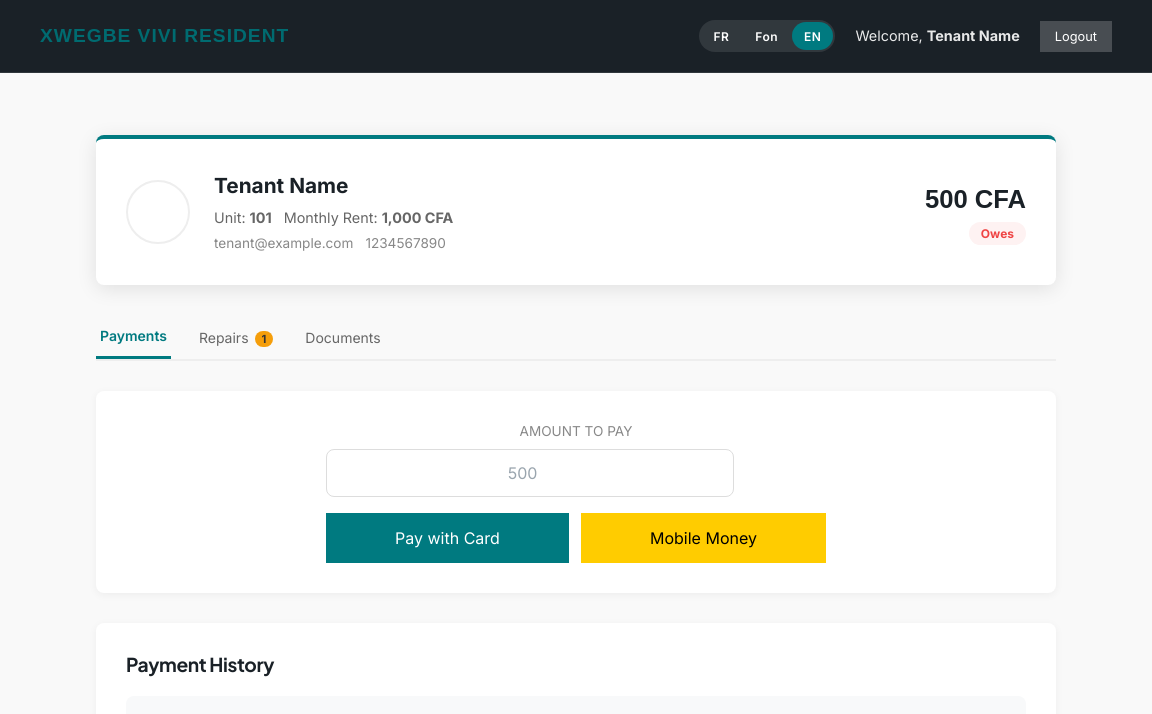
TenantPortal › renders repair list
Click the button "Repairs1": coordinates (236, 337) 195,315 -> 277,359
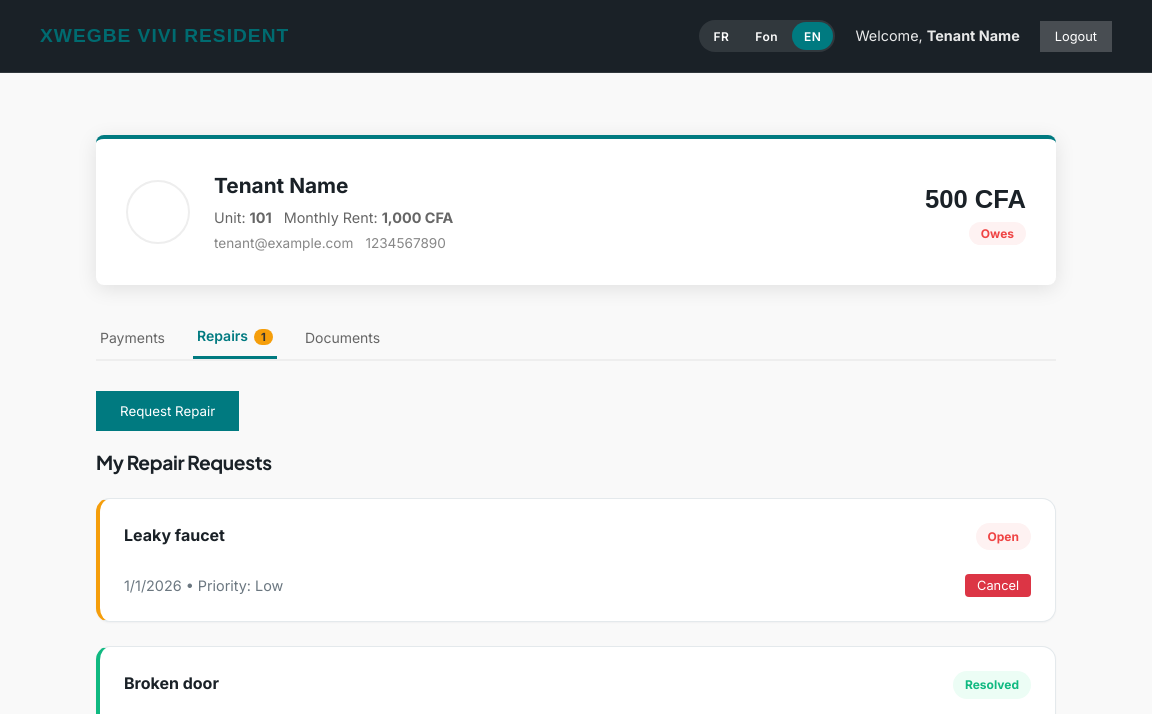
expect the text "Leaky faucet" is shown: met, box 124,523 -> 225,549
expect the text "Broken door" is shown: met, box 124,671 -> 219,697
